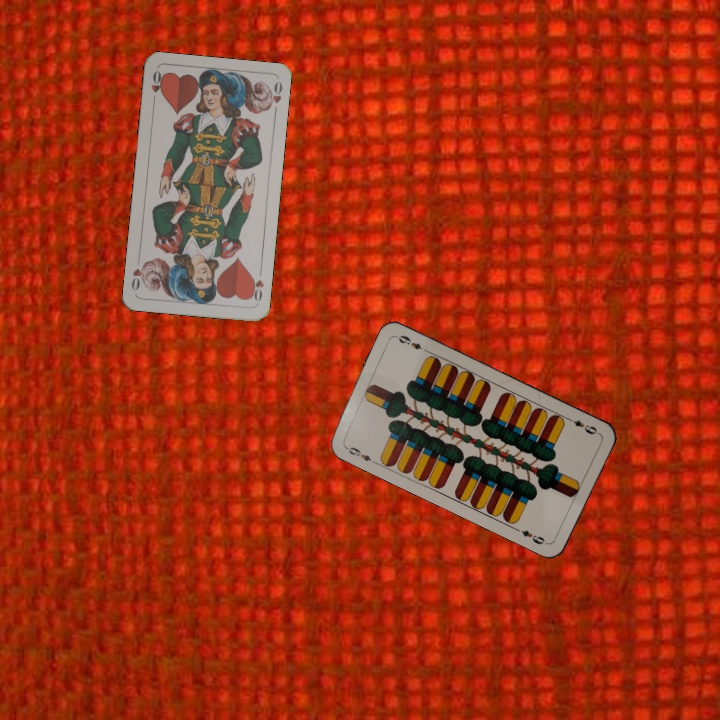E9: (340, 441, 378, 466), (563, 413, 601, 437)
HO: (246, 265, 266, 304), (147, 66, 166, 107)
